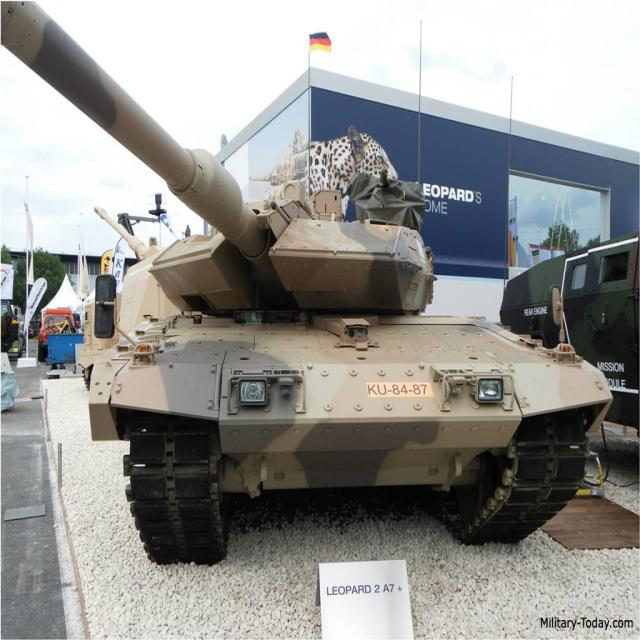Tank: (17, 0, 600, 561)
